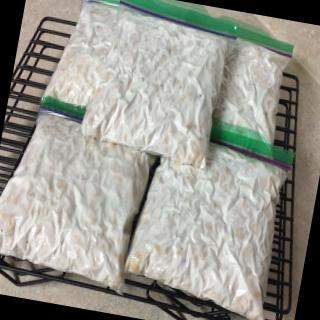Tempe: (36, 90, 300, 178), (76, 1, 299, 72), (211, 37, 292, 147), (206, 118, 300, 174), (39, 94, 90, 126)
